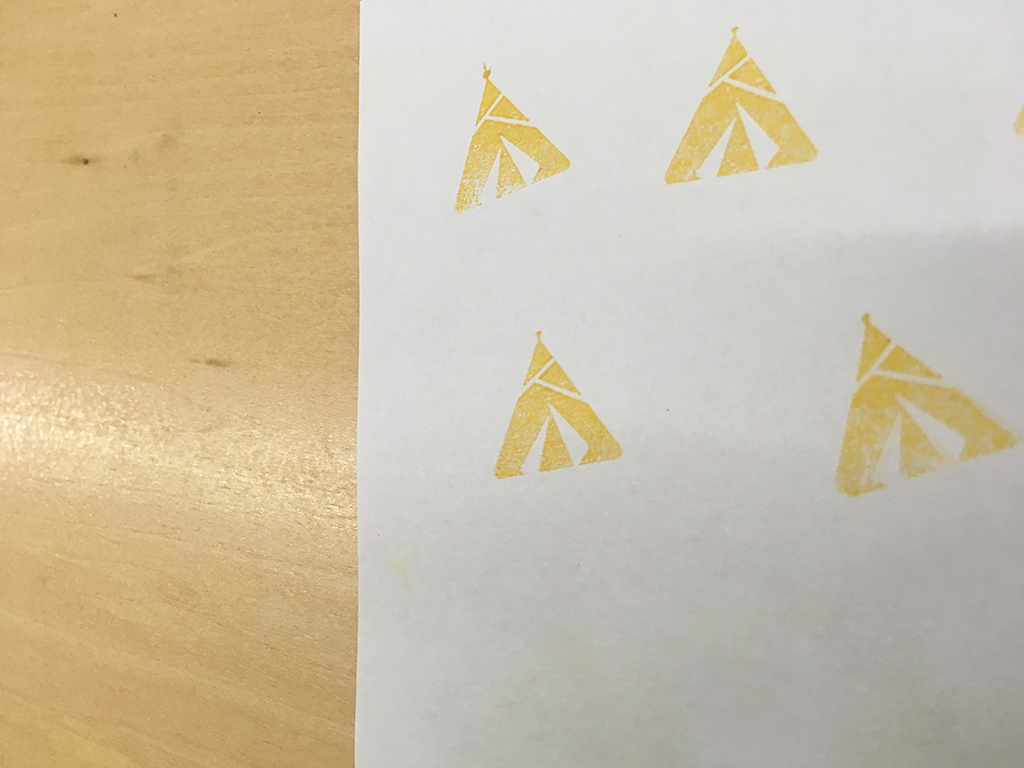tent: (822, 299, 1023, 512), (650, 17, 831, 191), (435, 51, 583, 221), (486, 325, 635, 484)
